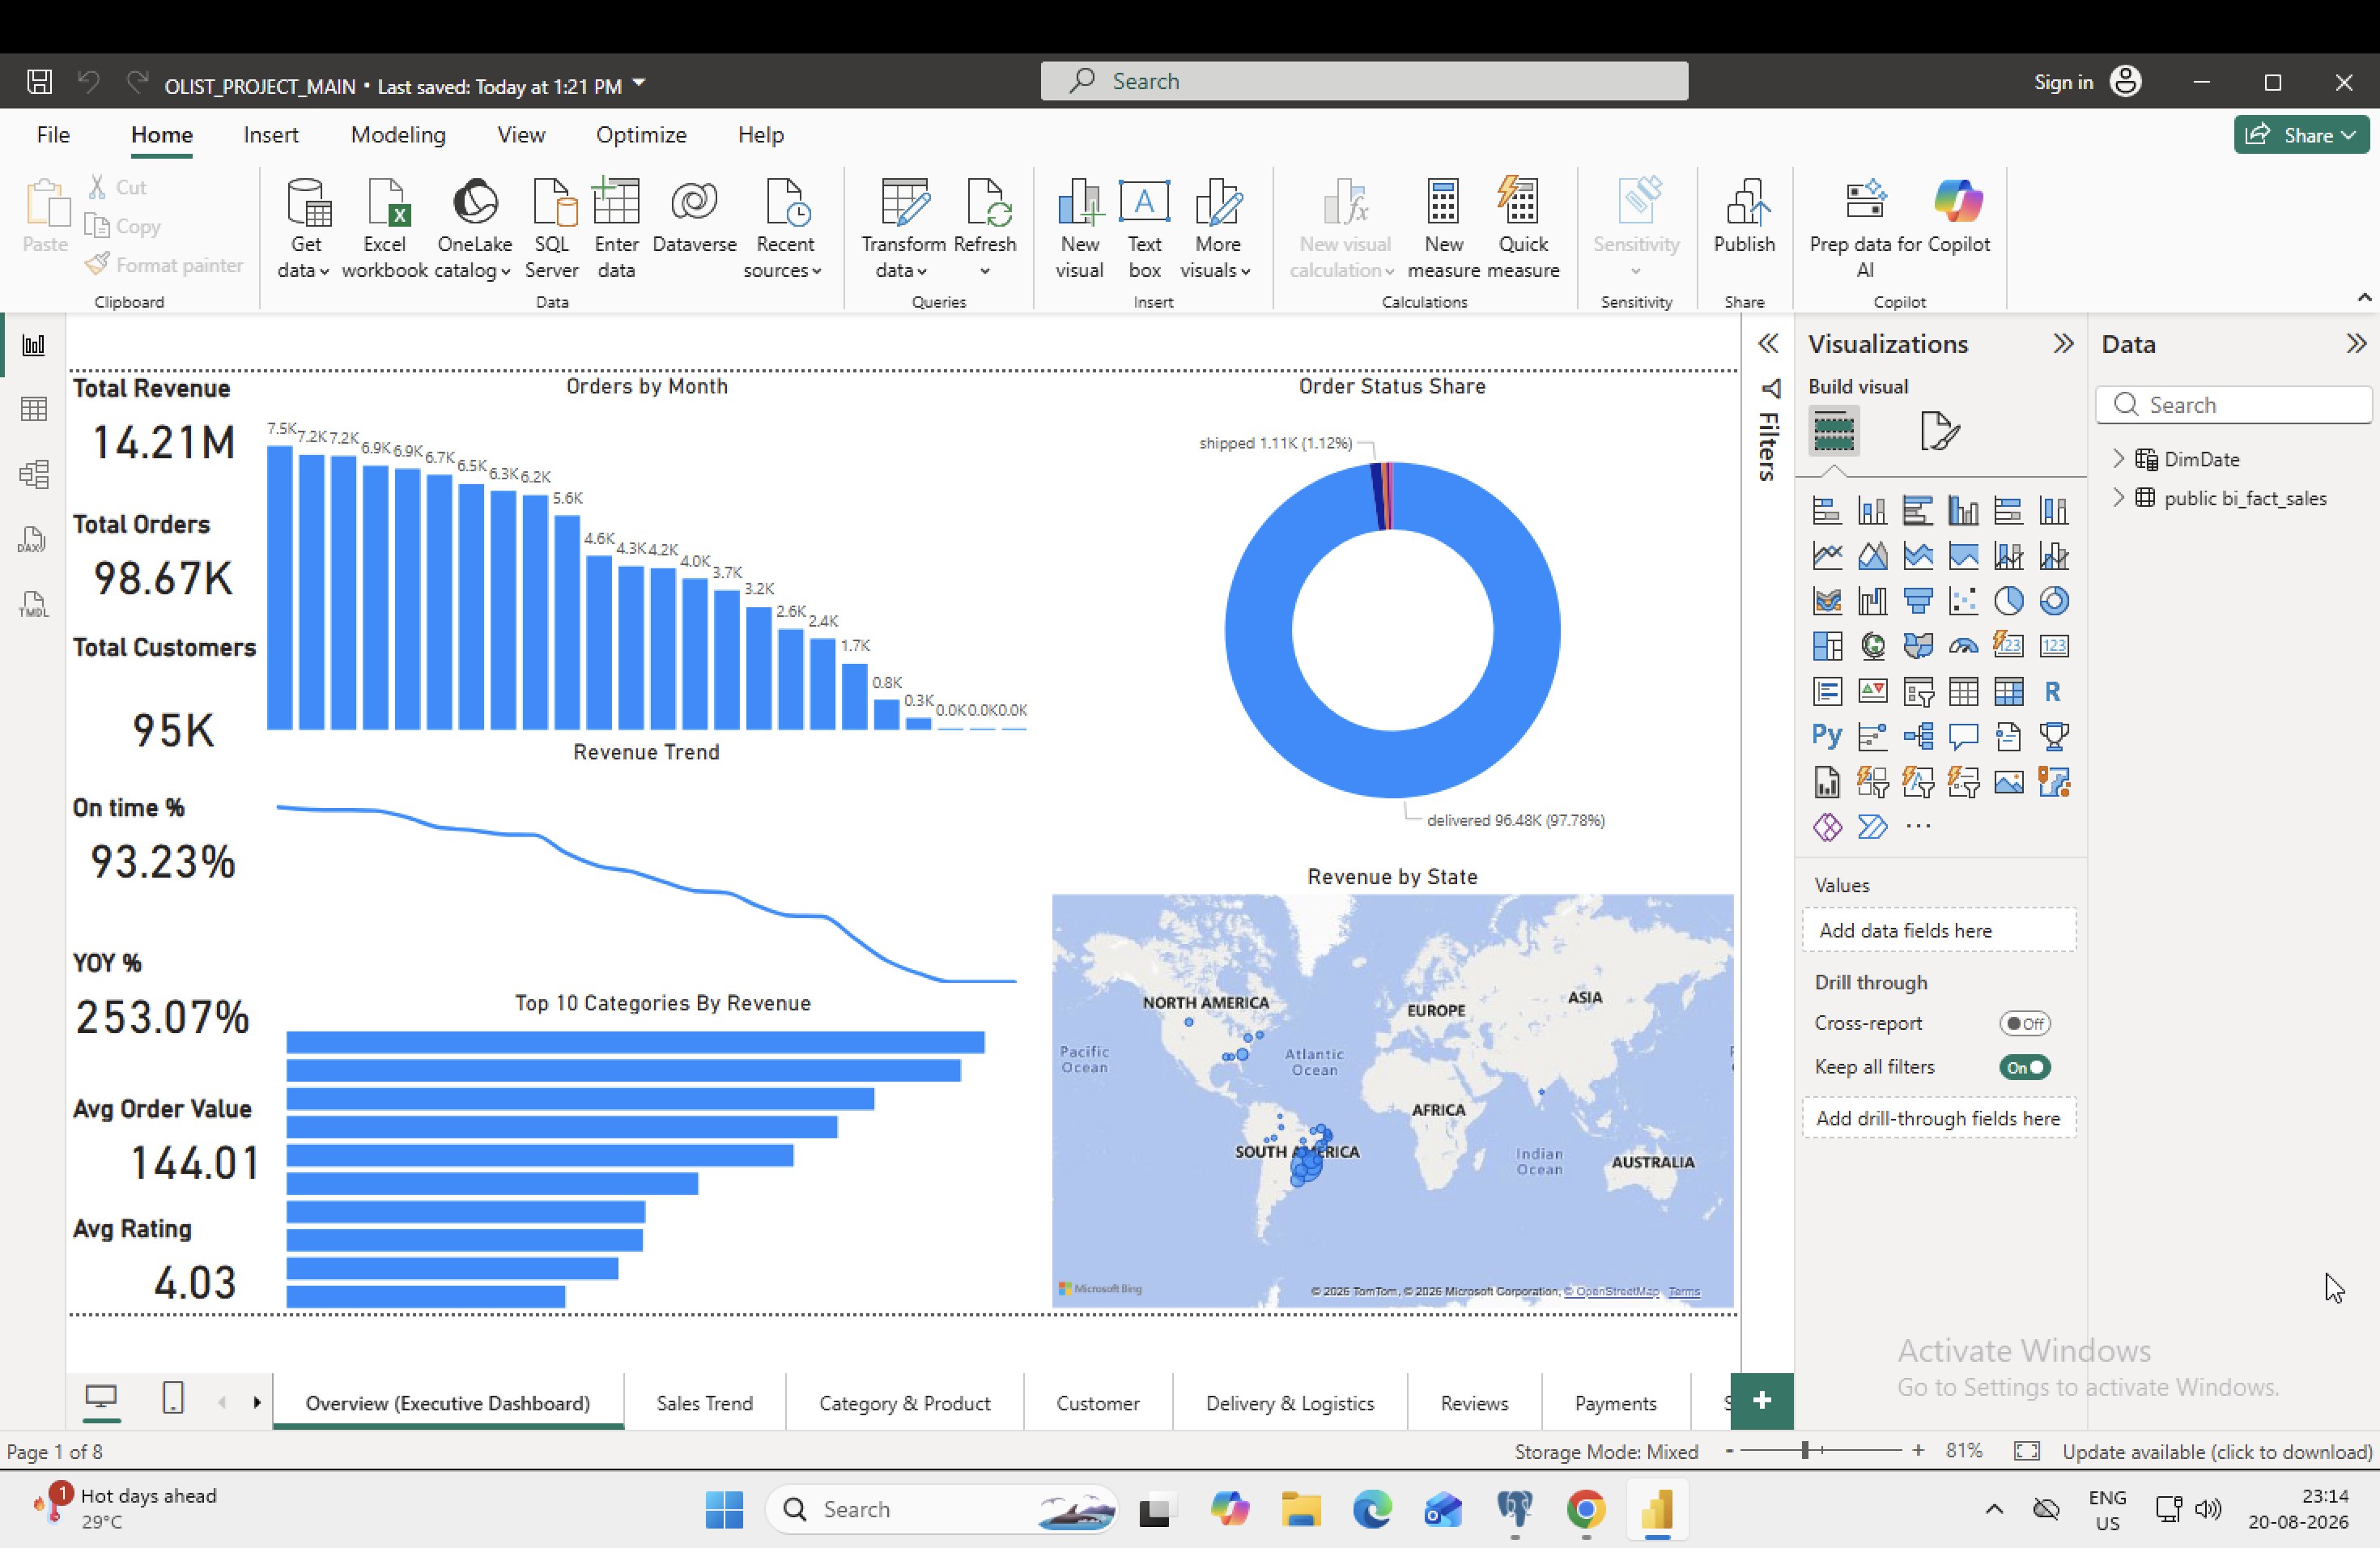

This screenshot's page, from the dashboard's own definition file:
{"tool":"powerbi","page":{"name":"Overview (Executive Dashboard)","canvas":[1280,720],"ordinal":0},"visuals":[{"type":"card","title":"Total Revenue","fields":{"Values":["public bi_fact_sales.Revenue"]},"box":[0,0,147.5,77.7],"z":0},{"type":"card","title":"Total Orders","fields":{"Values":["public bi_fact_sales.Orders"]},"box":[0,104,147.5,77.7],"z":1000},{"type":"card","title":"Total Customers","fields":{"Values":["public bi_fact_sales.Customers"]},"box":[0,197.5,163.3,122.5],"z":2000},{"type":"card","title":"YOY %","fields":{"Values":["public bi_fact_sales.YoY %"]},"box":[0,439.8,147.5,77.7],"z":3000},{"type":"card","title":"Avg Order Value","fields":{"Values":["public bi_fact_sales.AOV"]},"box":[0,550.5,197.5,77.7],"z":4000},{"type":"card","title":"Avg Rating","fields":{"Values":["public bi_fact_sales.Avg Rating"]},"box":[0,642.6,197.5,77.7],"z":5000},{"type":"card","title":"On time %","fields":{"Values":["public bi_fact_sales.On-time %"]},"box":[0,320,147.5,77.7],"z":6000},{"type":"lineChart","title":"Revenue Trend","fields":{"Category":["DimDate.Year-Month"],"Y":["public bi_fact_sales.Revenue"]},"box":[147.5,279.2,592.6,192.3],"z":7000},{"type":"columnChart","title":"Orders by Month","fields":{"Category":["DimDate.Year-Month"],"Y":["public bi_fact_sales.Orders"]},"box":[148.8,0,591.3,279.2],"z":8000},{"type":"barChart","title":"Top 10 Categories By Revenue","fields":{"Y":["public bi_fact_sales.Revenue"],"Category":["public bi_fact_sales.category"]},"box":[163.3,471.4,586,248.9],"z":9000},{"type":"map","title":"Revenue by State","fields":{"Category":["public bi_fact_sales.customer_state"],"Size":["public bi_fact_sales.Revenue"]},"box":[749.3,375.3,530.7,345],"z":10000},{"type":"donutChart","title":" Order Status Share","fields":{"Category":["public bi_fact_sales.order_status"],"Y":["public bi_fact_sales.Orders"]},"box":[749.3,0,530.7,375.3],"z":11000}]}

Visuals, with their boxes on the page's 1280x720 design canvas (x1, y1, x2, y2). These are canvas units, not pixel positions in the 2380x1548 screenshot, which may show the page scaled, cropped or inside an application window:
"Total Revenue" card: bbox(0, 0, 148, 78)
"Total Orders" card: bbox(0, 104, 148, 182)
"Total Customers" card: bbox(0, 198, 163, 320)
"YOY %" card: bbox(0, 440, 148, 518)
"Avg Order Value" card: bbox(0, 550, 198, 628)
"Avg Rating" card: bbox(0, 643, 198, 720)
"On time %" card: bbox(0, 320, 148, 398)
"Revenue Trend" lineChart: bbox(148, 279, 740, 472)
"Orders by Month" columnChart: bbox(149, 0, 740, 279)
"Top 10 Categories By Revenue" barChart: bbox(163, 471, 749, 720)
"Revenue by State" map: bbox(749, 375, 1280, 720)
" Order Status Share" donutChart: bbox(749, 0, 1280, 375)
